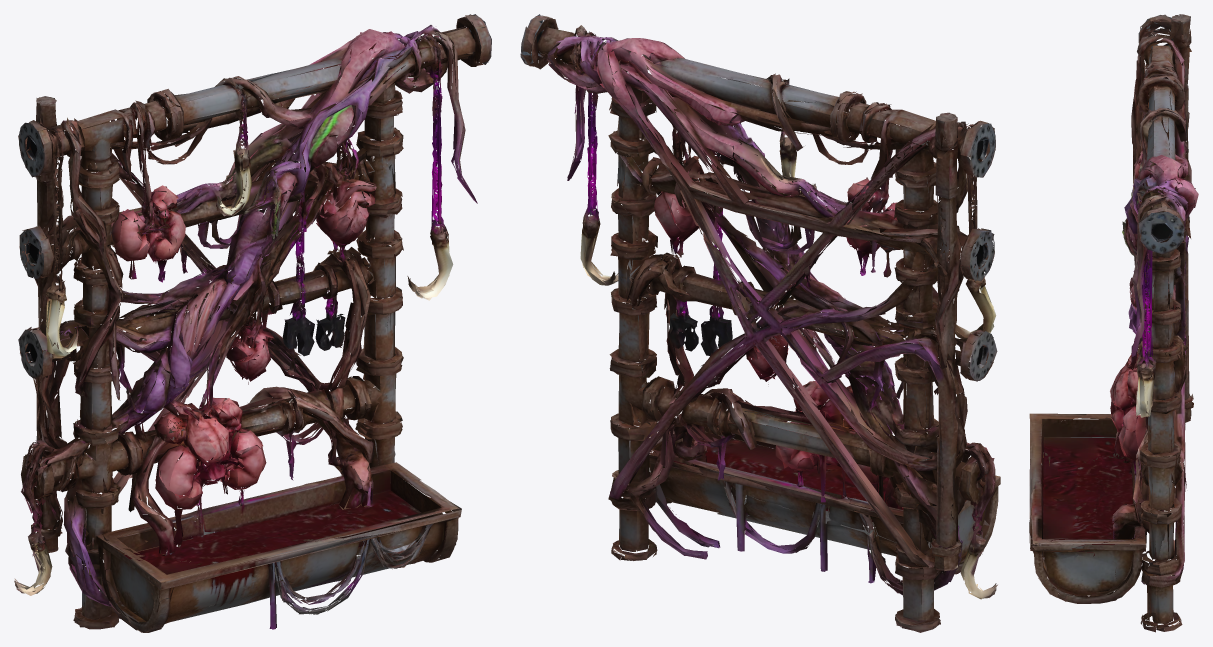
Rendered from tallow_flesh_trellis.glb.
The picture shows the model from 3 angles, left to right: view 1: azimuth 30°, elevation 25°; view 2: azimuth 150°, elevation 25°; view 3: azimuth 270°, elevation 25°; orthographic projection. The views are drawn at different scales.
Parts seen in each view (by area): view 1: node_0; view 2: node_0; view 3: node_0.
Boxes of the visible parts, <box> form: node_0: <box>14,14,491,632</box>; node_0: <box>520,14,1000,632</box>; node_0: <box>1029,14,1198,632</box>.
Bounding box in the file's own units: 0.832 × 0.8944 × 0.2936.
1 material, 1 textured.
